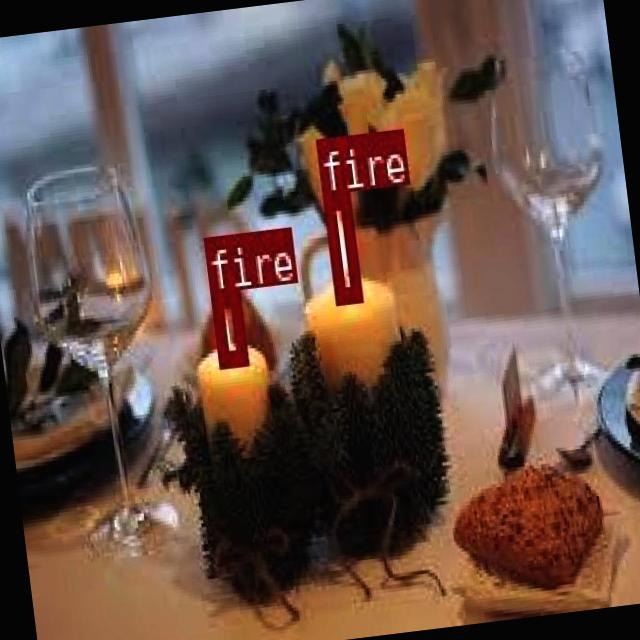fire: (322, 191, 359, 299), (208, 288, 245, 364)
